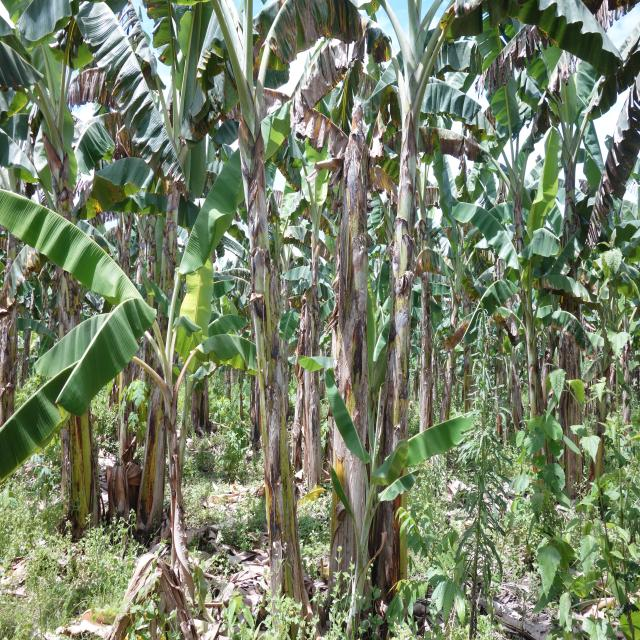Banana-plant: (225, 82, 301, 623), (371, 76, 440, 599), (134, 105, 198, 532), (322, 127, 376, 605), (41, 77, 92, 530), (551, 124, 586, 490), (512, 316, 550, 568), (414, 186, 432, 468)
